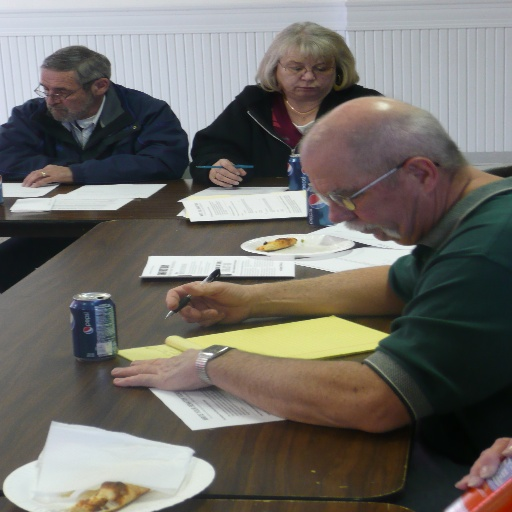hand: (148, 275, 299, 328), (109, 346, 215, 392), (453, 436, 511, 493), (18, 164, 72, 188), (208, 157, 248, 188)
